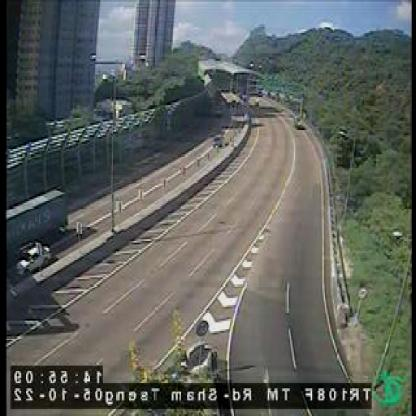Car: (17, 243, 52, 277)
